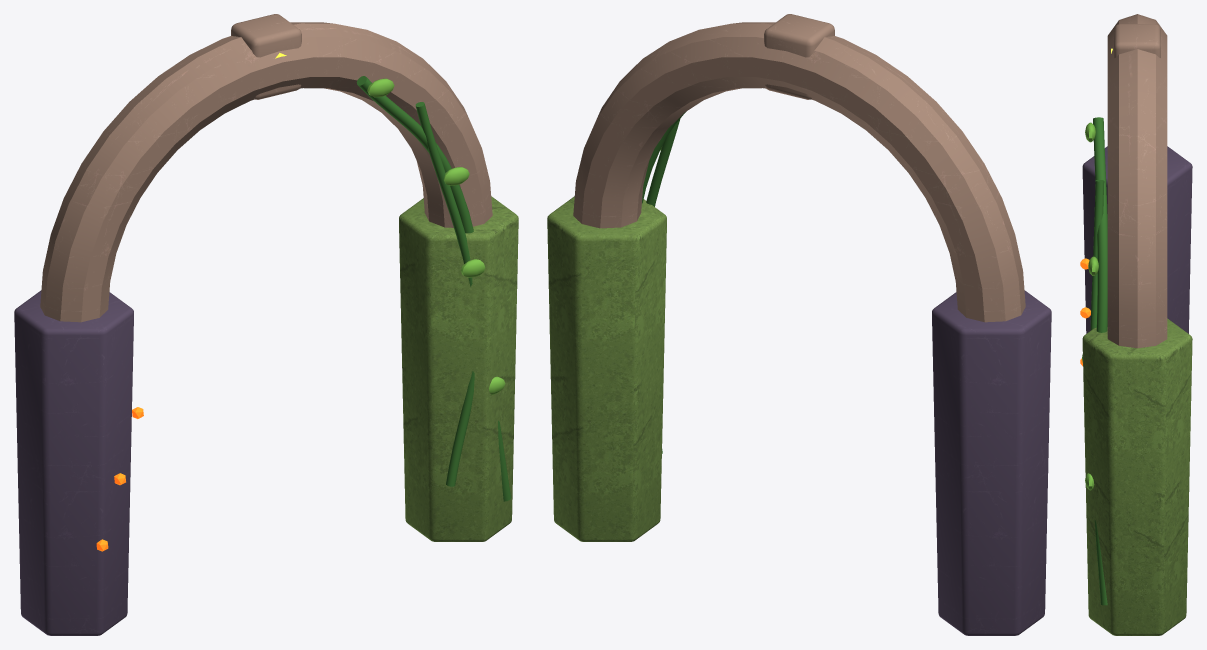
Rendered from gate_arch_vol_forest.glb.
3 renders of one model, left to right at view 1: azimuth 30°, elevation 25°; view 2: azimuth 150°, elevation 25°; view 3: azimuth 270°, elevation 25°, orthographic. The views are drawn at different scales.
Parts seen in each view (by area): view 1: gate_arch_vol_forest; view 2: gate_arch_vol_forest; view 3: gate_arch_vol_forest.
Part boxes in pixels (bbox=[...]): gate_arch_vol_forest: bbox=[14, 14, 518, 635]; gate_arch_vol_forest: bbox=[547, 14, 1051, 635]; gate_arch_vol_forest: bbox=[1080, 14, 1192, 635].
Bounding box in the file's own units: 3.22 × 3.52 × 0.7146.
Materials: 7 (3 with a texture image).
